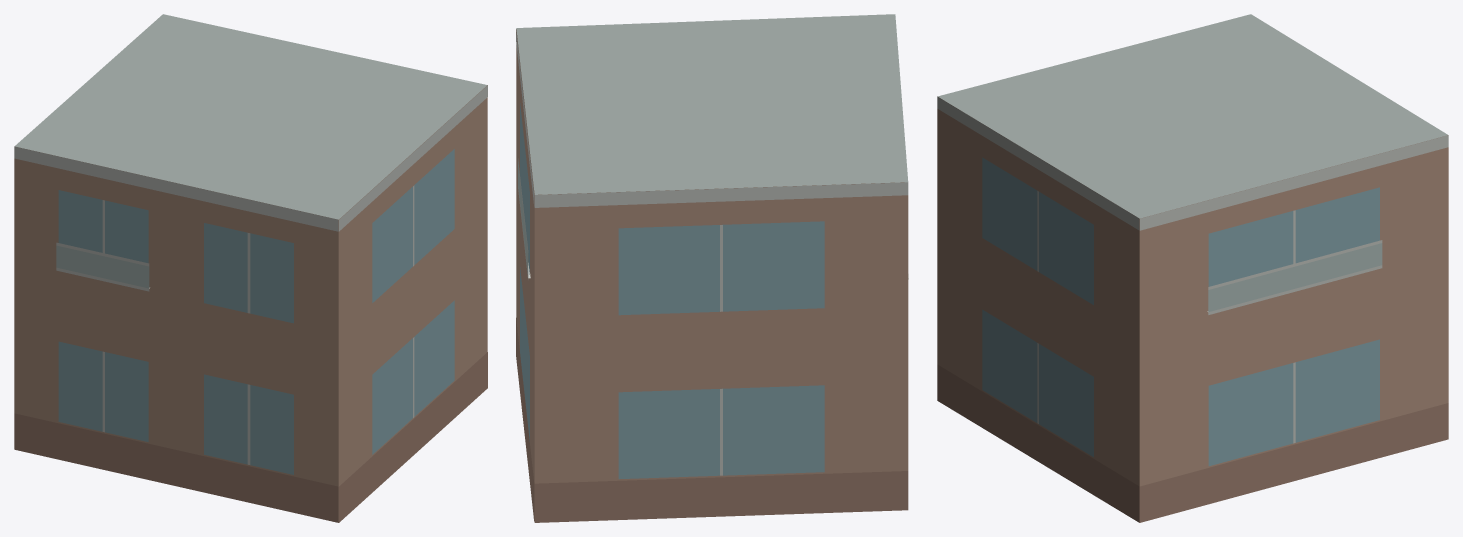
Rendered from survey-upis-32616670.glb.
3 views of the same model, side by side, from view 1: azimuth 30°, elevation 25°; view 2: azimuth 150°, elevation 25°; view 3: azimuth 270°, elevation 25° (orthographic). The views are drawn at different scales.
Parts seen in each view (by area): view 1: survey-upis-32616670.tmp; view 2: survey-upis-32616670.tmp; view 3: survey-upis-32616670.tmp.
Part boxes in pixels (x1,y1,x2,y2): survey-upis-32616670.tmp: (14, 14, 487, 522); survey-upis-32616670.tmp: (516, 14, 908, 522); survey-upis-32616670.tmp: (937, 14, 1448, 522).
Size of the model in its own units: 8.81 by 6.1 by 9.3.
